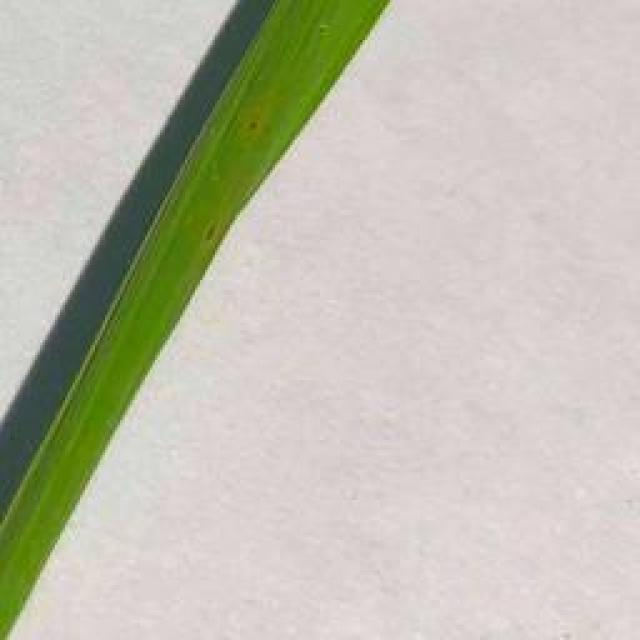Brown_Spot: (246, 103, 264, 145), (203, 216, 223, 240)
